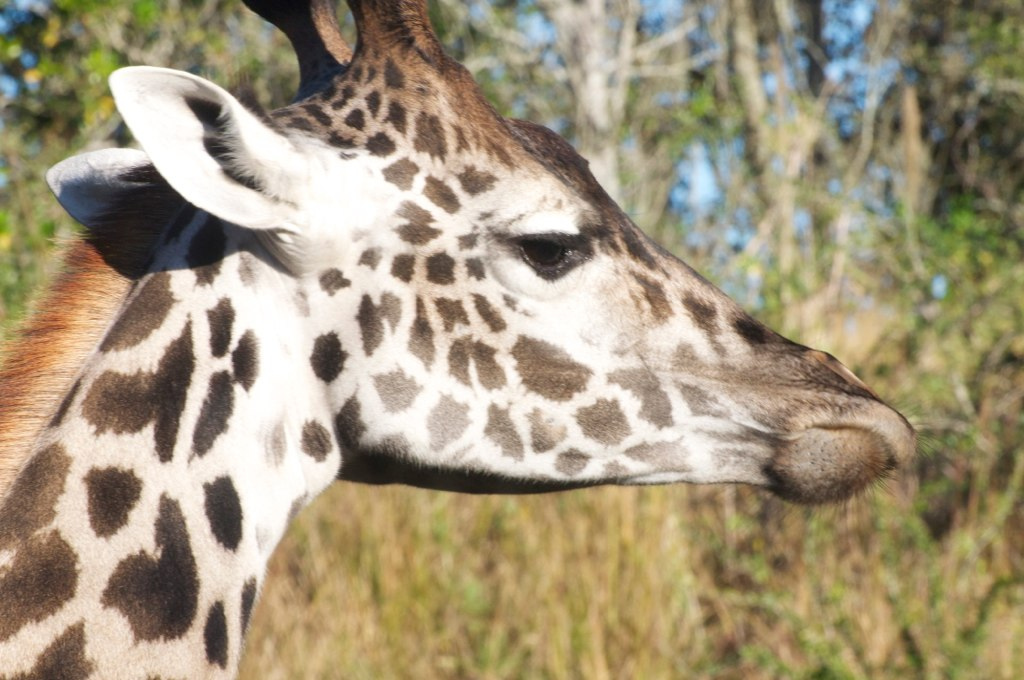giraffe: (14, 27, 937, 620)
